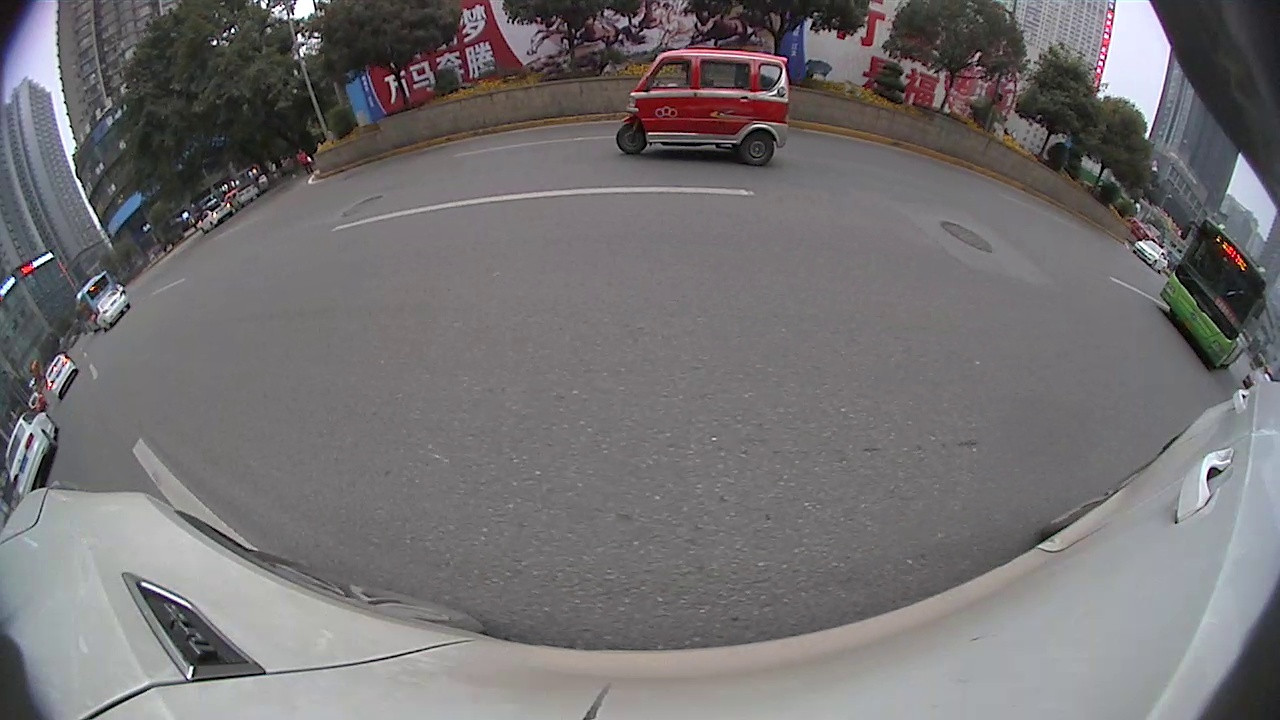bus: (1159, 214, 1266, 370), (77, 270, 115, 330)
car: (1, 408, 59, 497), (43, 352, 78, 398), (94, 285, 130, 327), (1130, 236, 1167, 268)
front: (613, 120, 651, 158)
rear: (737, 129, 777, 167)
rider: (613, 49, 790, 167)
